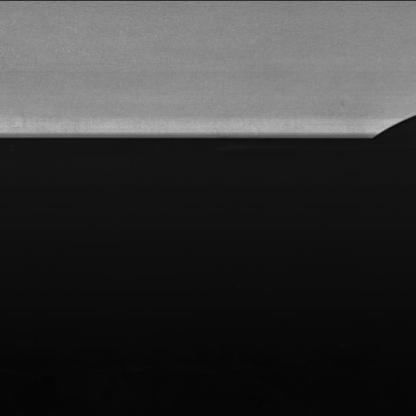crescent_gap: (346, 106, 416, 145)
